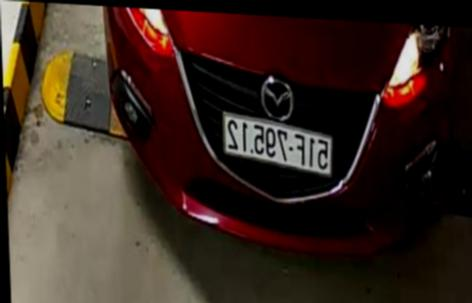License_Plate: (220, 112, 342, 175)
